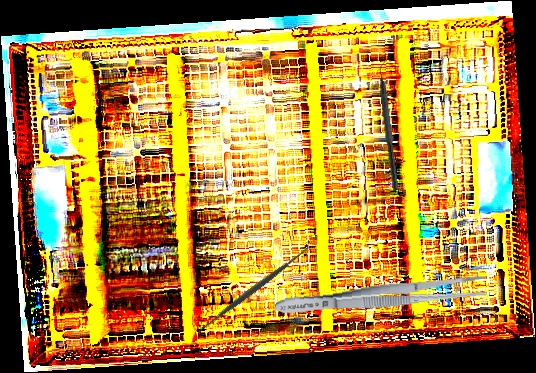Chopper: (374, 56, 408, 191)
Dressing Forceps: (273, 271, 488, 321)
Spatula Surgical: (190, 238, 318, 340)
